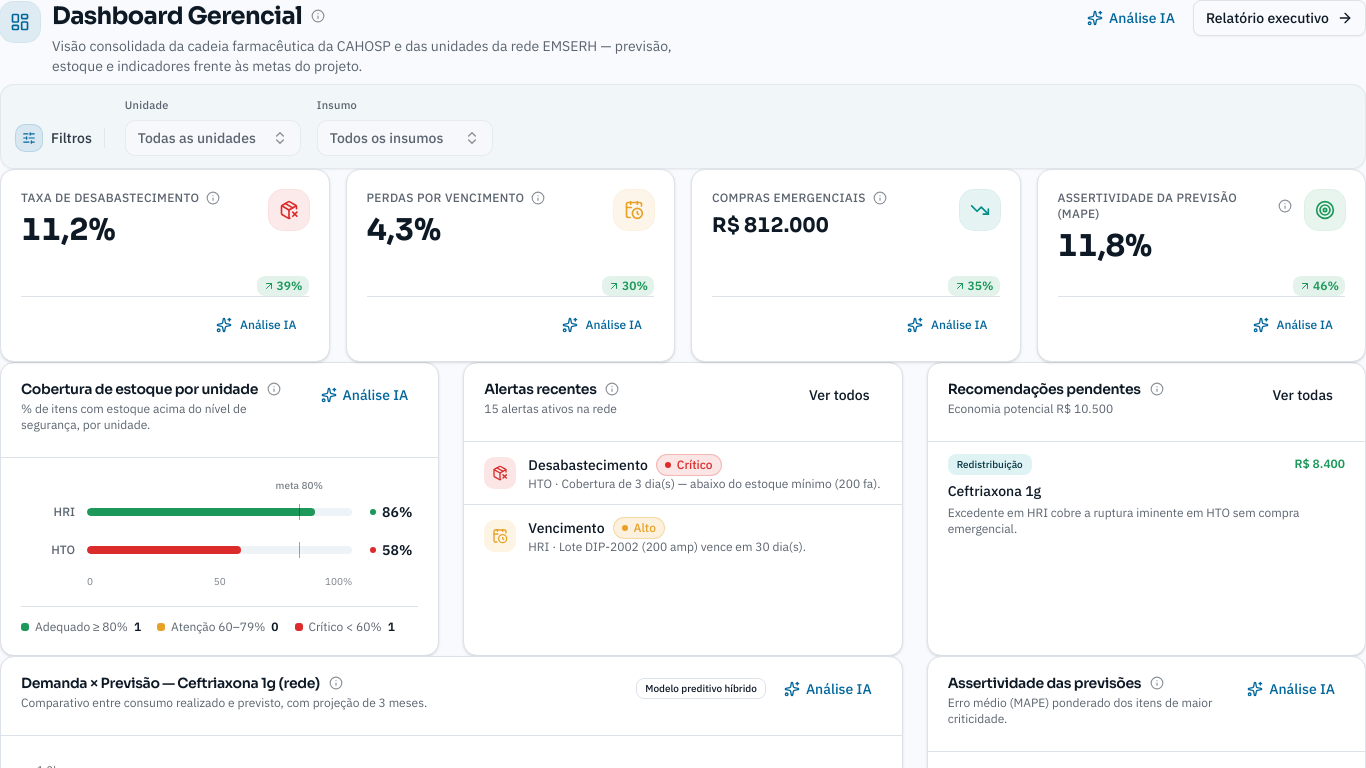
Test case: DashboardPage › abre o modal de análise de um gráfico (cobertura) com detalhe e insight de IA
What coordinates should you click on to do the following:
click the button with aria-label "Análise IA — Cobertura por unidade"
I would click on:
 (364, 394)
Its box is [310,378,418,410].
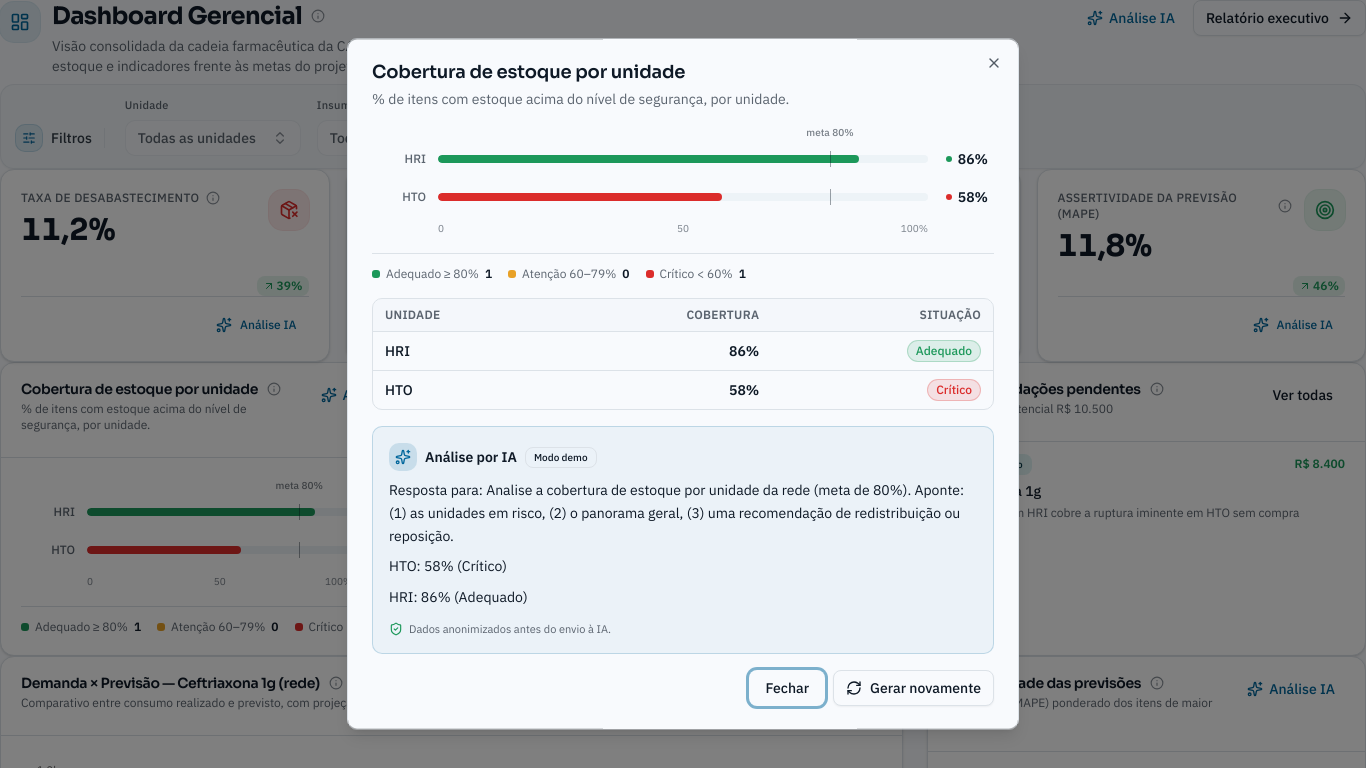
Check: the column heading "Situação" is shown, box [771,299,993,332]
Check: the text "Análise por IA" is shown, box [425,447,517,467]
Check: the text "Resposta para:" is shown, box [389,481,964,545]
